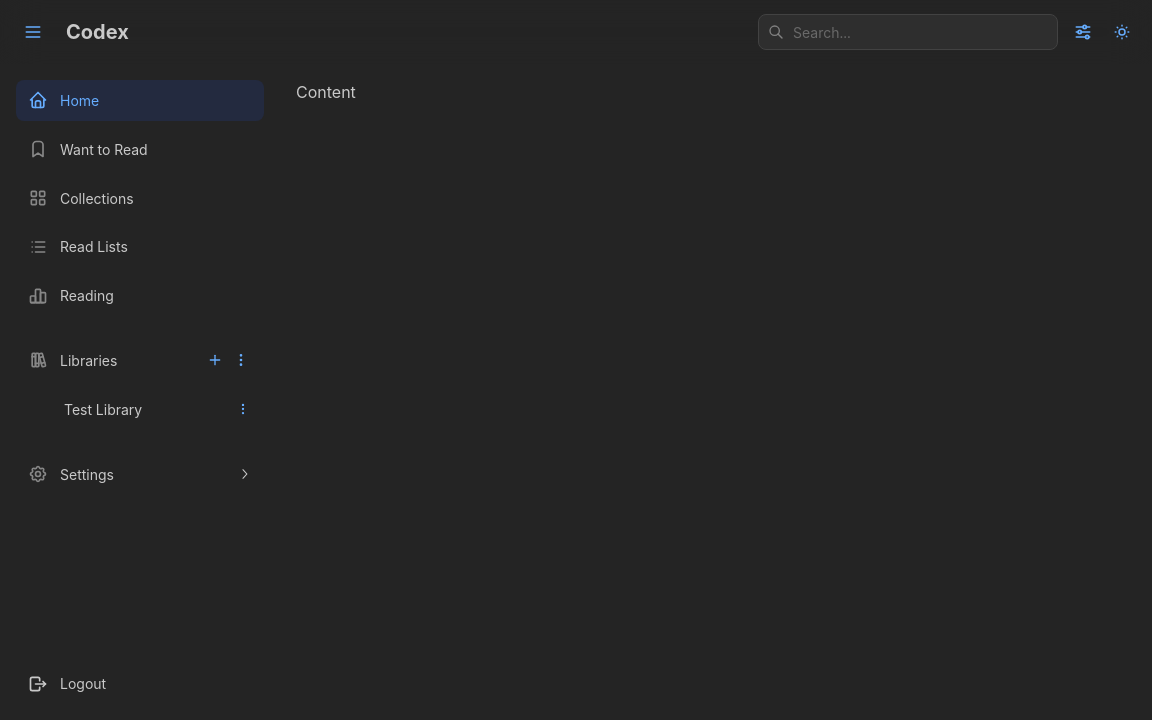
it: Sidebar Component (via AppLayout) › Library dropdown menu › should NOT show thumbnail options for users without tasks:write permission
Expected: the text "Test Library" is shown, top-left (64, 401), bottom-right (142, 418)
What coordinates should you click on to do the following:
click the button titled "Library options"
I would click on:
 (243, 409)
Its box is top-left (234, 400), bottom-right (252, 418).
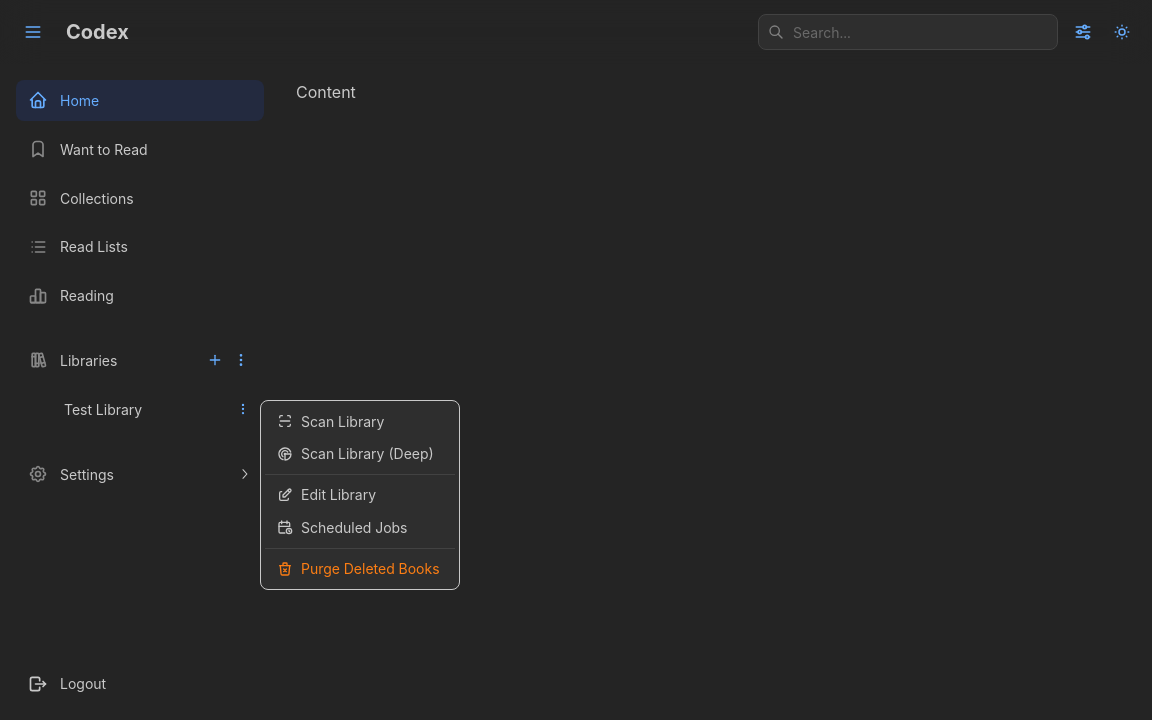
Now the text "Scan Library" is shown, box top-left (301, 412), bottom-right (384, 430)
